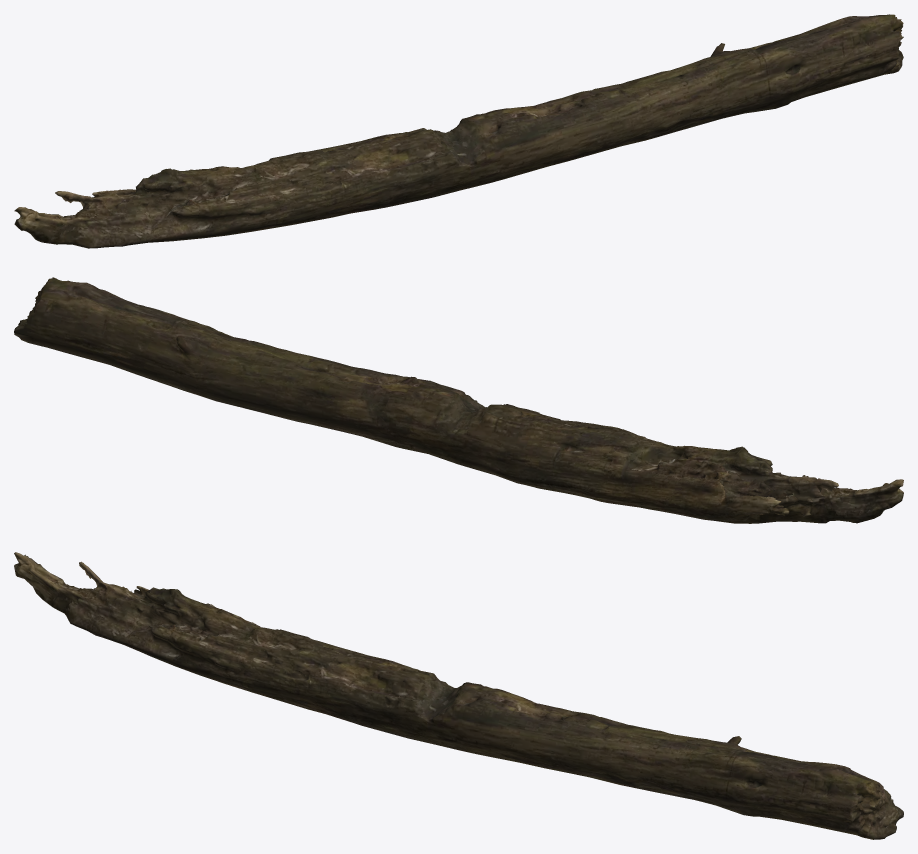
The model's file is dead_tree_trunk.glb.
3 renders of one model, top to bottom at view 1: azimuth 30°, elevation 25°; view 2: azimuth 150°, elevation 25°; view 3: azimuth 330°, elevation 25°, orthographic.
Parts seen in each view (by area): view 1: dead_tree_trunk; view 2: dead_tree_trunk; view 3: dead_tree_trunk.
Boxes of the visible parts, left/top/right/bottom form: dead_tree_trunk: left=14, top=14, right=903, bottom=248; dead_tree_trunk: left=14, top=277, right=903, bottom=523; dead_tree_trunk: left=14, top=552, right=903, bottom=839.
Bounding box in the file's own units: 3.05 × 0.2898 × 0.2775.
Materials: 1 (1 with a texture image).
